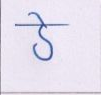e_matra: (29, 12, 47, 24)
